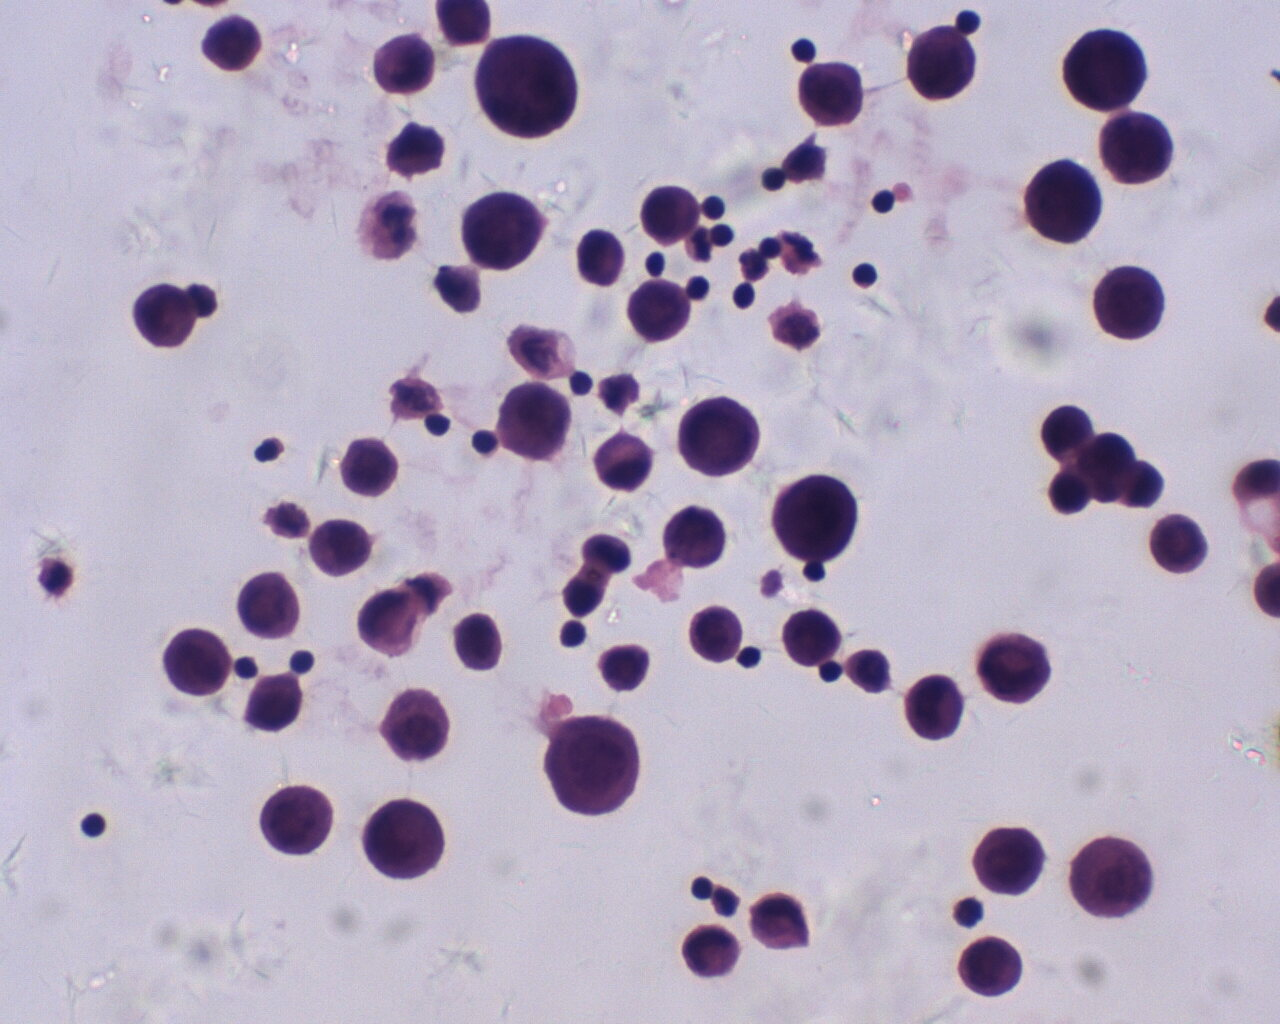ab: (473, 30, 578, 142), (535, 709, 639, 815), (771, 470, 861, 562), (1060, 28, 1149, 109), (1024, 153, 1101, 245), (676, 397, 762, 478), (360, 800, 440, 883), (899, 27, 982, 104), (969, 823, 1051, 901), (462, 191, 542, 269), (261, 784, 338, 863), (160, 620, 232, 703), (1094, 261, 1167, 342), (1096, 114, 1178, 186), (977, 634, 1053, 707), (660, 502, 734, 572), (957, 934, 1031, 1002), (620, 279, 690, 349), (233, 571, 303, 639), (368, 32, 440, 98), (799, 63, 871, 127), (897, 674, 962, 741), (199, 14, 266, 76), (1149, 513, 1213, 579), (782, 604, 843, 670), (340, 436, 402, 499), (686, 600, 745, 667)
lymph: (950, 892, 990, 931), (787, 33, 827, 69), (867, 185, 897, 217), (848, 261, 880, 290), (78, 812, 107, 843), (731, 644, 760, 670), (473, 429, 496, 458), (289, 650, 312, 672)
meso: (380, 689, 455, 765), (594, 430, 653, 491)
